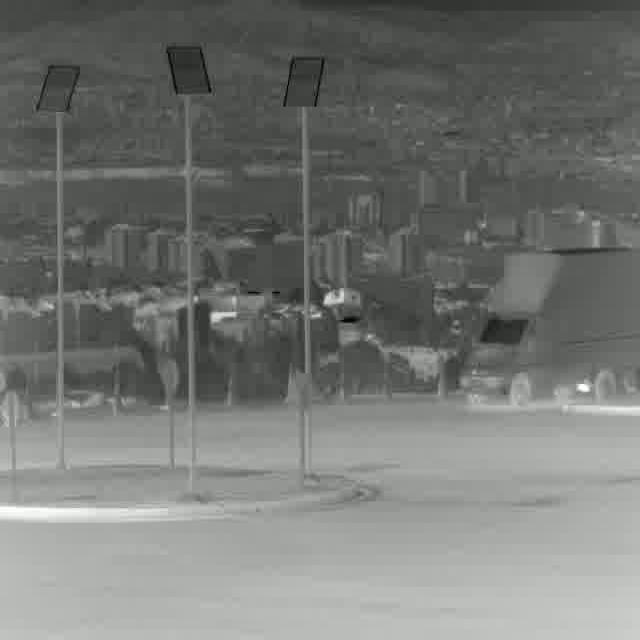Car: (458, 251, 638, 401)
